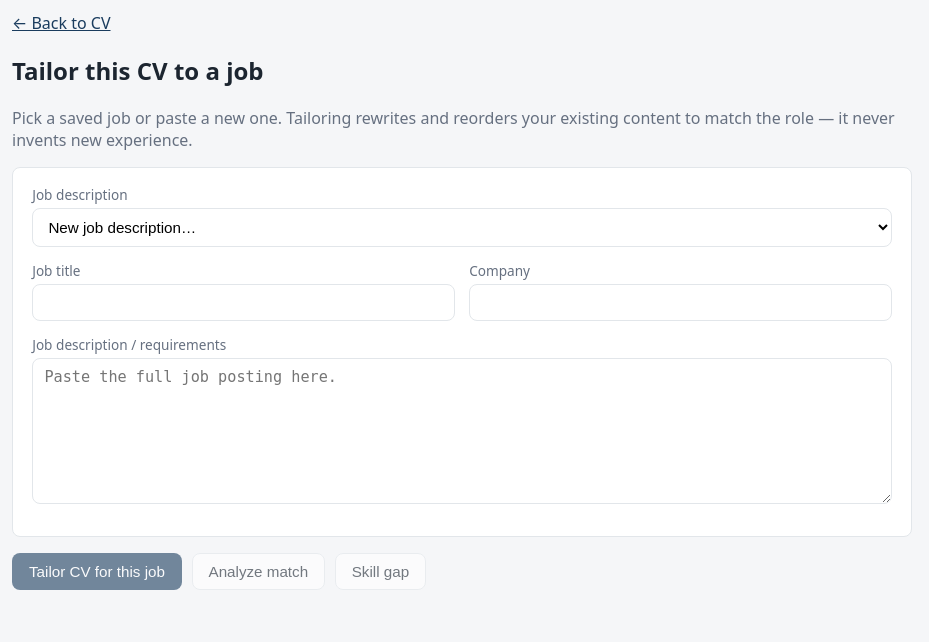
Test: <CustomizeCV /> › runs a skill gap analysis for a saved job
The image size is (929, 642).
Select "Backend Engineer — Acme" in the dropdown labelled "Job description": (462, 228) x1=32 y1=208 x2=892 y2=247
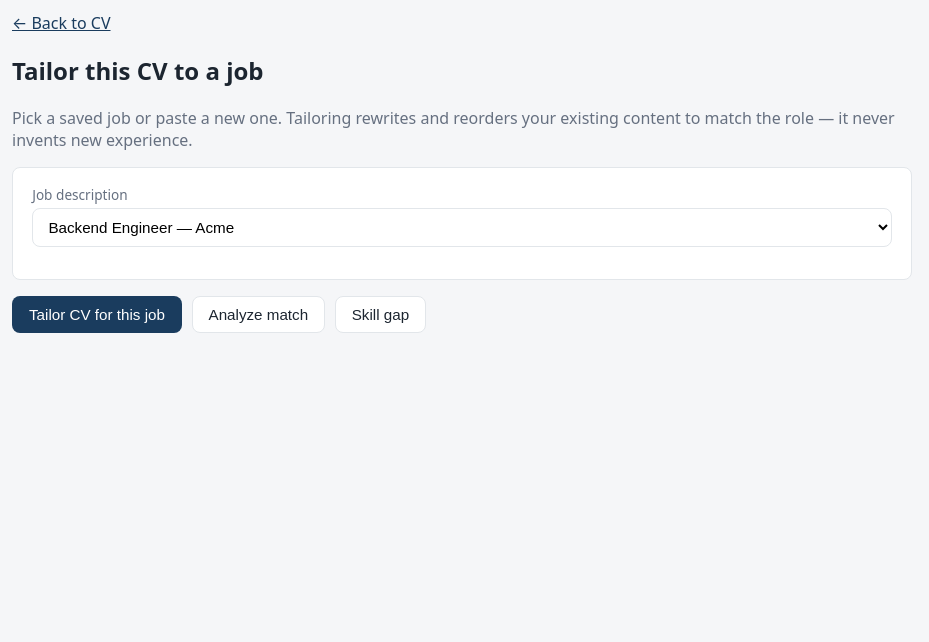
Click the button "Skill gap": (380, 314) x1=335 y1=296 x2=426 y2=333
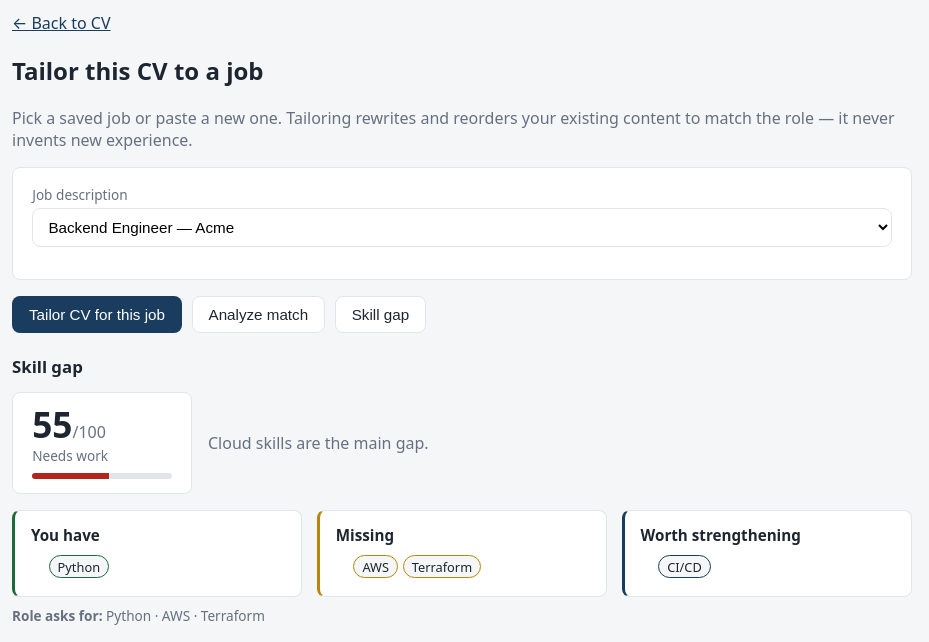
Now the text "55" is shown, box x1=32 y1=400 x2=72 y2=448
Now the list item "AWS" is shown, box x1=353 y1=555 x2=398 y2=578
Now the list item "CI/CD" is shown, box x1=658 y1=555 x2=711 y2=578
